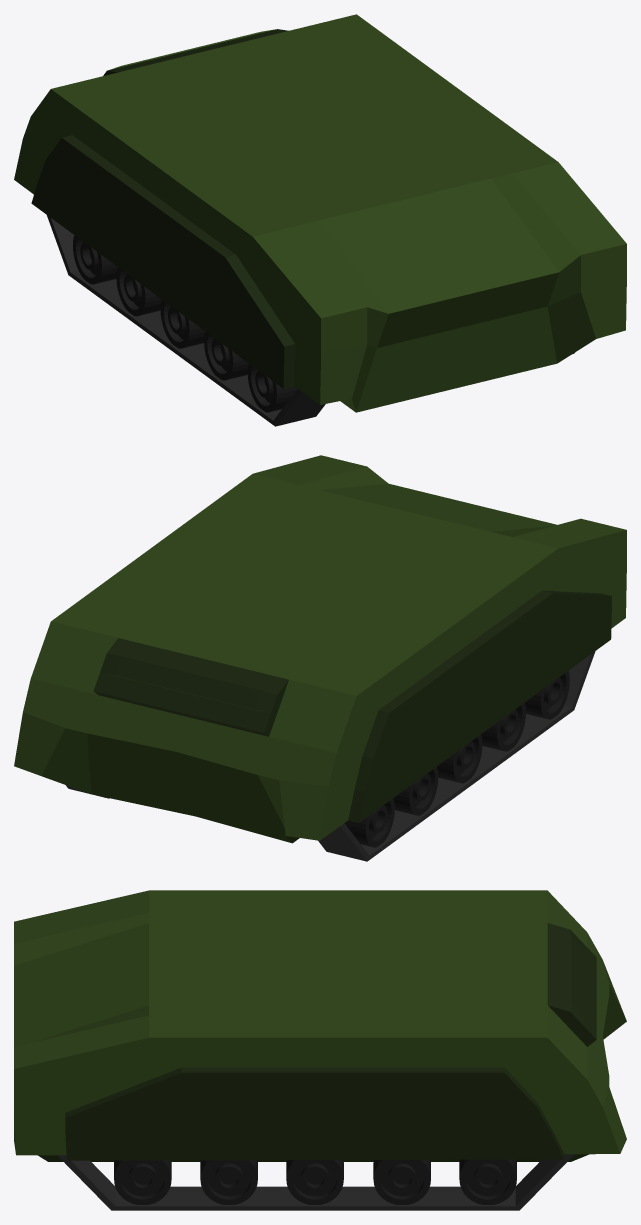
Rendered from tankBody.obj.
The picture shows the model from 3 angles, top to bottom: view 1: azimuth 30°, elevation 25°; view 2: azimuth 150°, elevation 25°; view 3: azimuth 270°, elevation 25°; orthographic projection.
Parts seen in each view (by area): view 1: Body4_Cube.070, Road_Wheels4_Cube.071, Tracks4_Cube.069; view 2: Body4_Cube.070, Road_Wheels4_Cube.071, Tracks4_Cube.069; view 3: Body4_Cube.070, Road_Wheels4_Cube.071, Tracks4_Cube.069.
Part boxes in pixels (x1,y1,x2,y2): Body4_Cube.070: (14,14,626,412); Road_Wheels4_Cube.071: (73,235,297,412); Tracks4_Cube.069: (47,215,574,426); Body4_Cube.070: (14,455,626,843); Road_Wheels4_Cube.071: (344,671,569,847); Tracks4_Cube.069: (66,651,595,861); Body4_Cube.070: (14,890,626,1161); Road_Wheels4_Cube.071: (114,1159,516,1204); Tracks4_Cube.069: (57,1154,574,1210).
Bounding box in the file's own units: 3.86 × 1.99 × 6.33.
